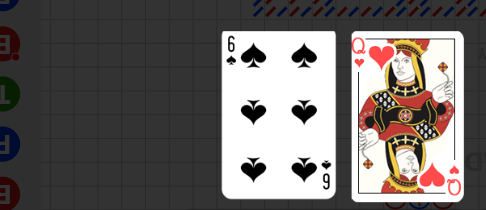6S: (319, 157, 332, 191), (226, 34, 238, 67)
